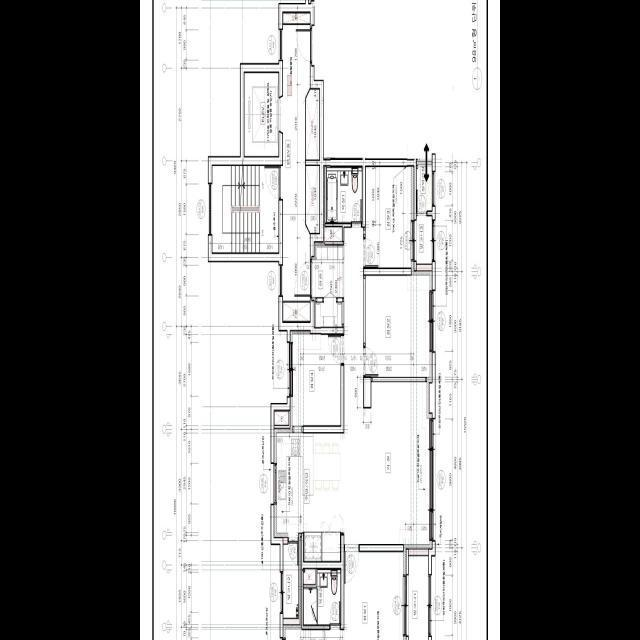background: (140, 0, 500, 640)
space_balconi: (409, 555, 428, 640), (283, 544, 298, 617), (417, 216, 432, 263)
space_bedroom: (365, 270, 432, 381), (325, 551, 406, 640), (365, 166, 414, 267), (290, 331, 341, 425)
space_dressroom: (283, 625, 322, 640)
space_elevator: (244, 72, 279, 156)
space_elevator_hall: (283, 24, 310, 300)
space_front: (312, 242, 344, 326)
space_kitchen: (274, 428, 344, 560)
space_living_room: (344, 227, 432, 548)
space_other: (306, 89, 319, 159), (306, 165, 319, 232), (283, 301, 310, 321), (283, 12, 310, 23), (324, 227, 342, 241), (274, 410, 289, 424), (304, 568, 315, 584)
space_outdoor_room: (416, 164, 432, 210)
space_staircase: (212, 165, 279, 252)
space_toilet: (304, 569, 340, 624), (327, 167, 362, 221)
